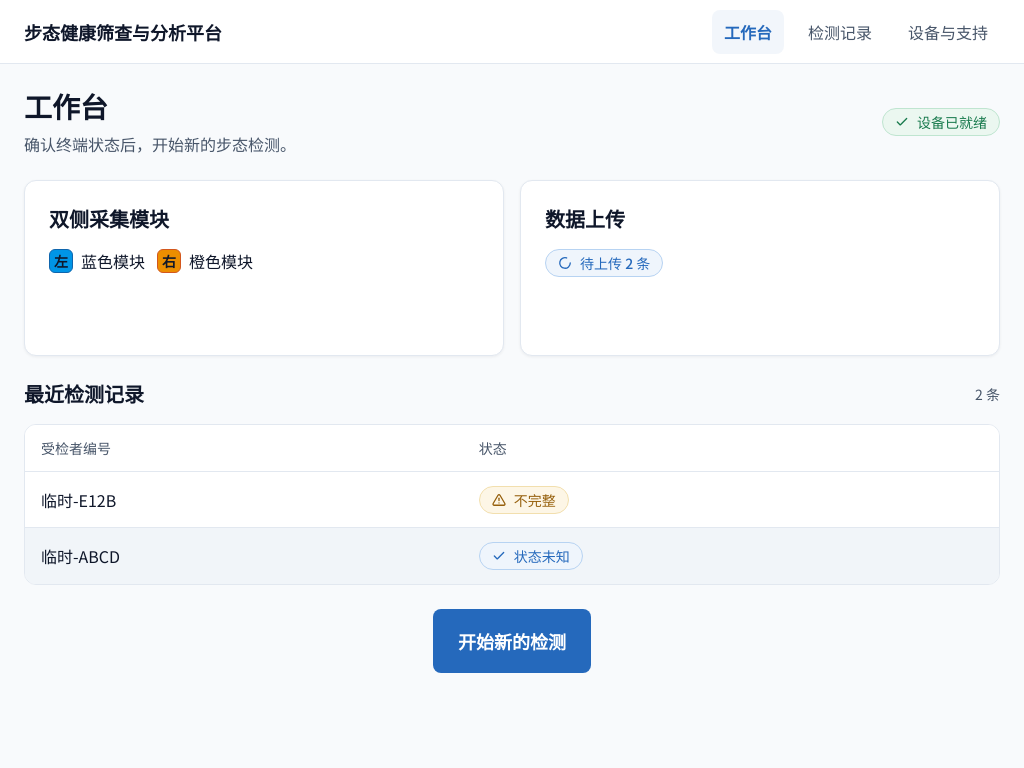
Test case: 真 sidecar 形状上的工作台 › 记录页与设备页读得了 sidecar 的形状
Expected: the heading "工作台" is shown, [24,86,108,126]
Click the button "检测记录" at (840, 32), box [796,10,884,54]
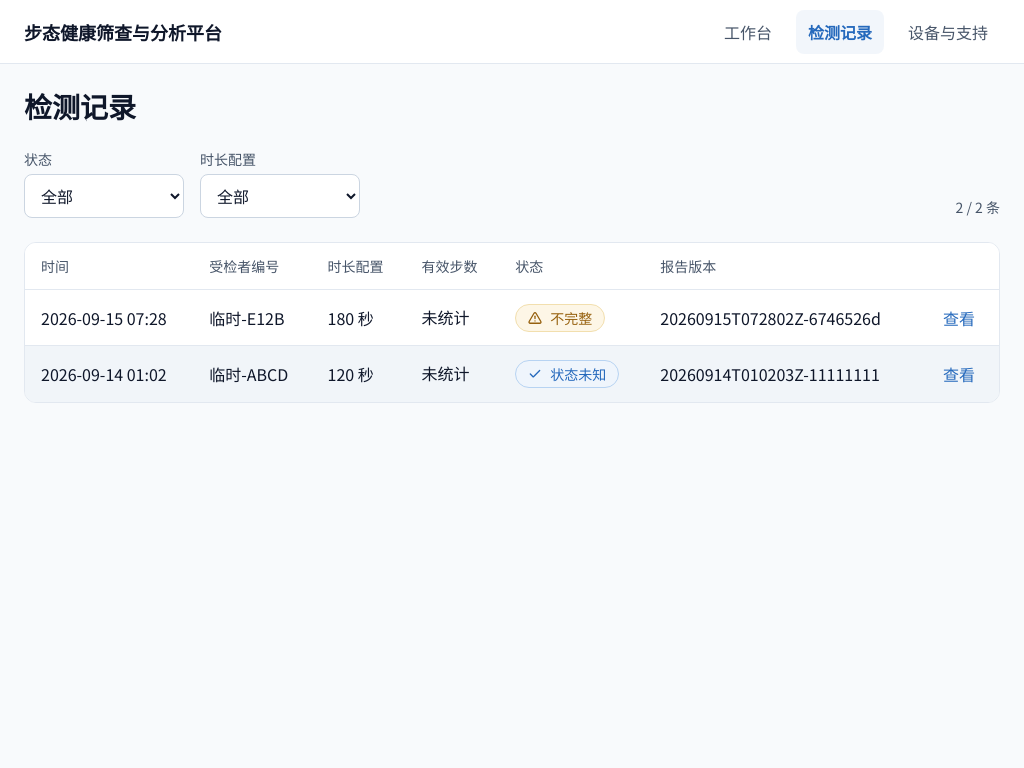
Expected: the heading "检测记录" is shown, [24,86,136,126]
Now the text "未统计" is shown 2 times, box [405,290,499,346]; [405,346,499,402]
Click the button "设备与支持" at (948, 32), box [896,10,1000,54]
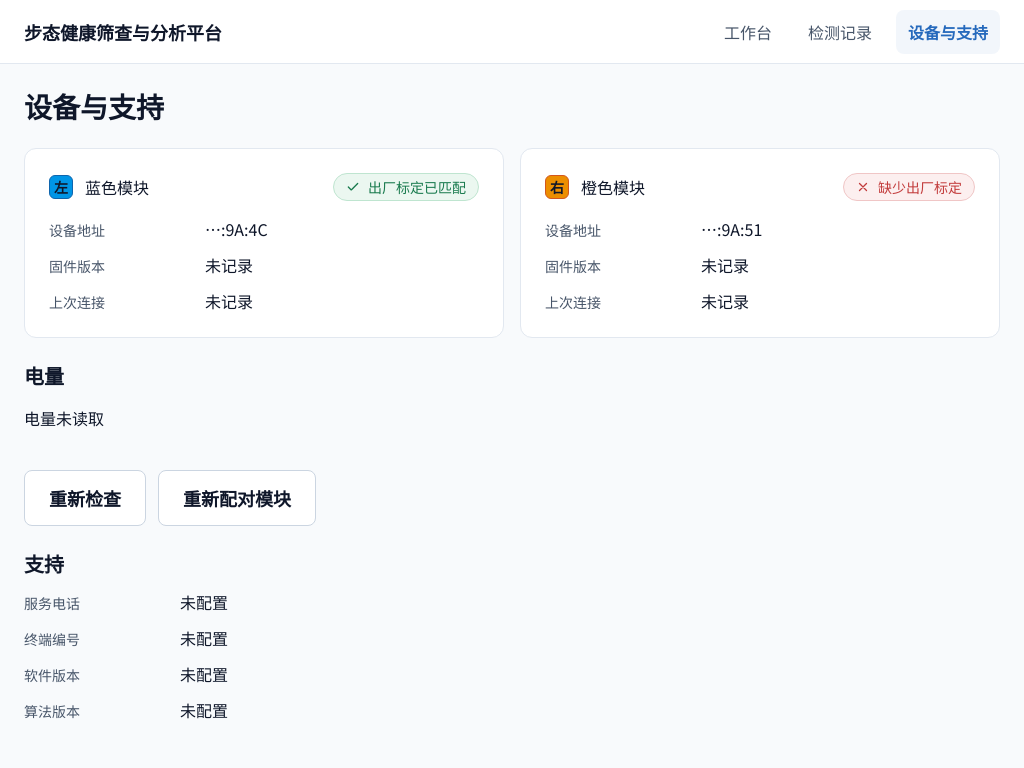
Now the heading "设备与支持" is shown, box [24,86,164,126]
Now the text "电量未读取" is shown, box [24,406,104,430]
